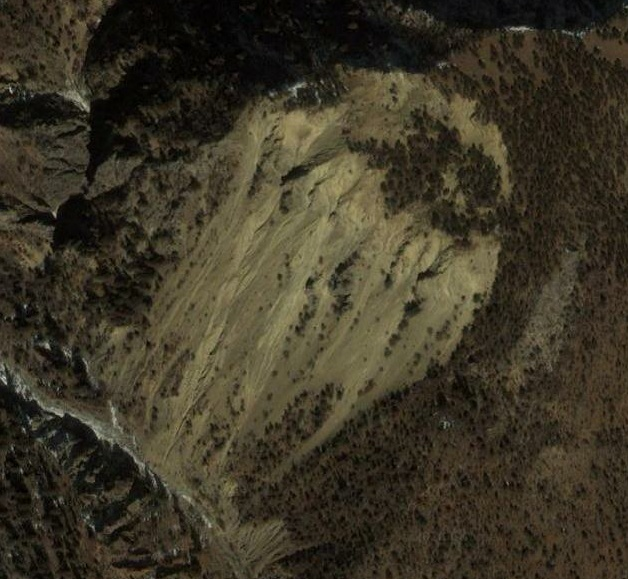slope: (99, 66, 513, 578)
